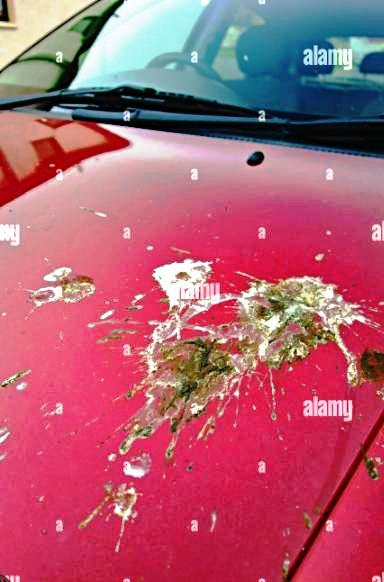Bird Poop: (120, 260, 367, 455), (80, 483, 136, 536), (32, 268, 95, 304), (361, 349, 383, 381), (124, 455, 149, 478), (0, 371, 30, 390), (96, 329, 134, 342), (364, 456, 382, 479), (280, 556, 289, 581), (0, 428, 8, 444)
